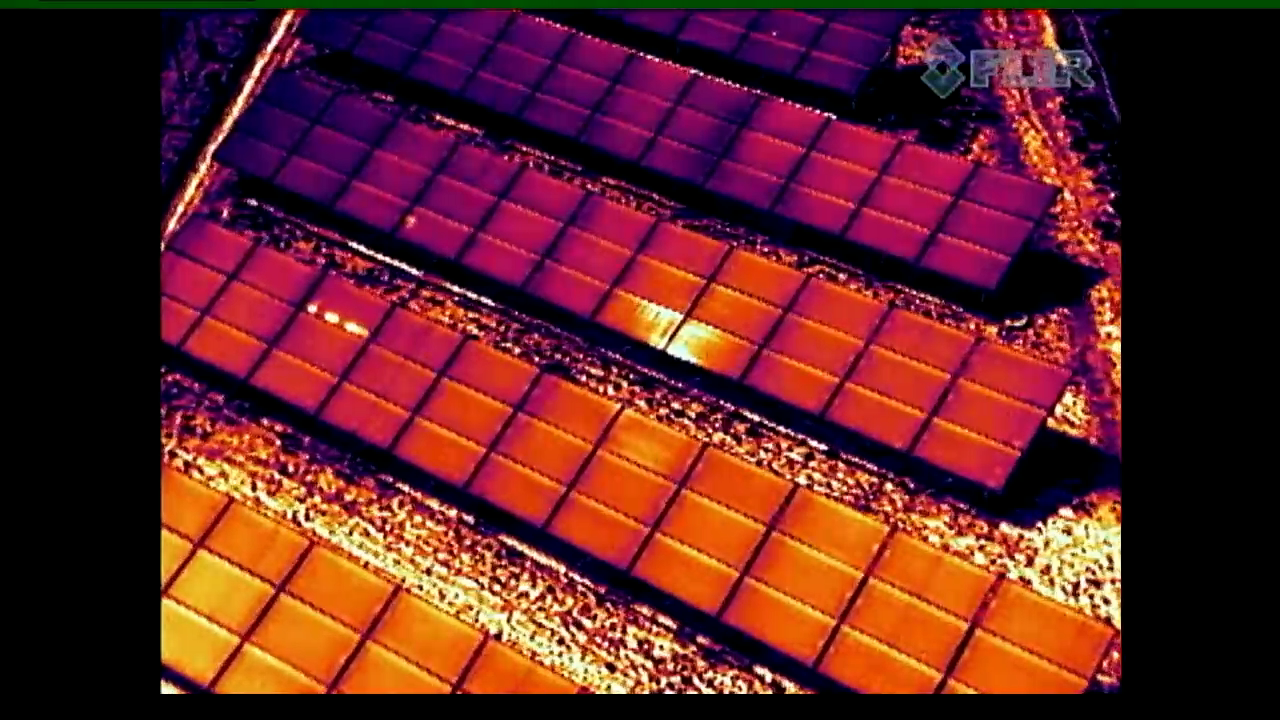hotspot: (249, 269, 394, 412), (394, 143, 515, 262)
